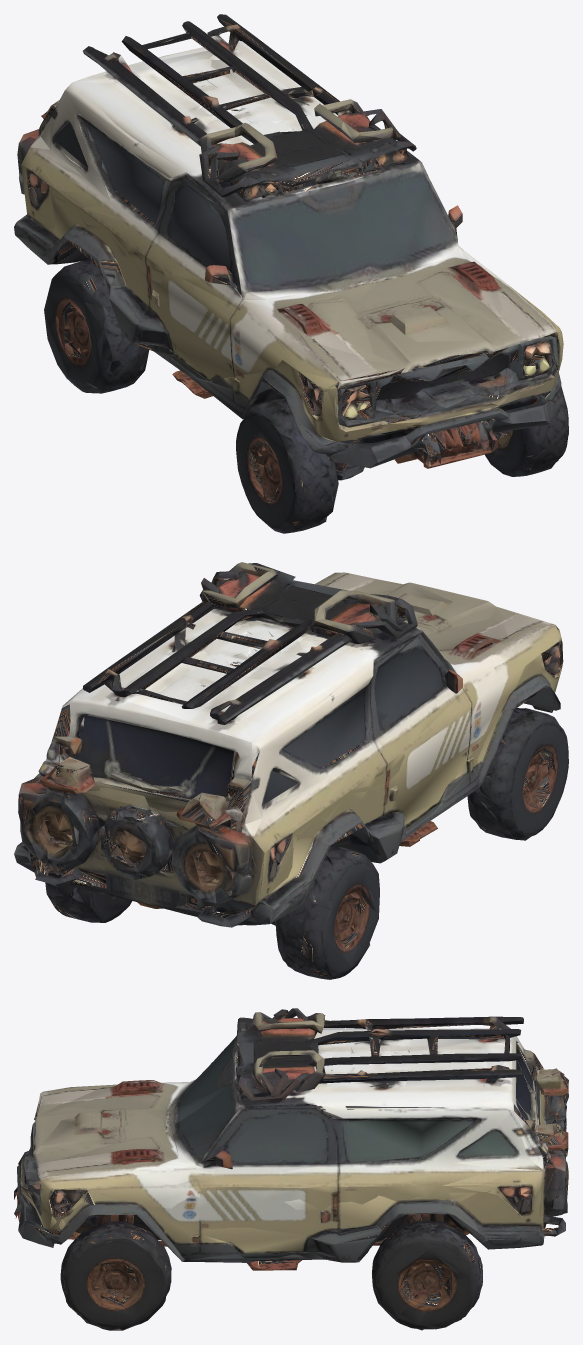
File: dust_runner.glb
3 views of the same model, one above another, from view 1: azimuth 30°, elevation 25°; view 2: azimuth 150°, elevation 25°; view 3: azimuth 270°, elevation 25° (orthographic). The views are drawn at different scales.
Parts seen in each view (by area): view 1: model, mesh_lod; view 2: model, mesh_lod; view 3: model, mesh_lod.
Boxes of the visible parts, left/top/right/bottom form: model: left=14, top=14, right=568, bottom=533; mesh_lod: left=17, top=17, right=568, bottom=531; model: left=14, top=562, right=568, bottom=979; mesh_lod: left=17, top=562, right=563, bottom=976; model: left=14, top=1008, right=568, bottom=1330; mesh_lod: left=14, top=1008, right=568, bottom=1330.
Bounding box in the file's own units: 2.56 × 2.57 × 5.3.
1 material, 1 textured.
